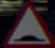Speed Breaker ahead: (6, 3, 44, 42)
